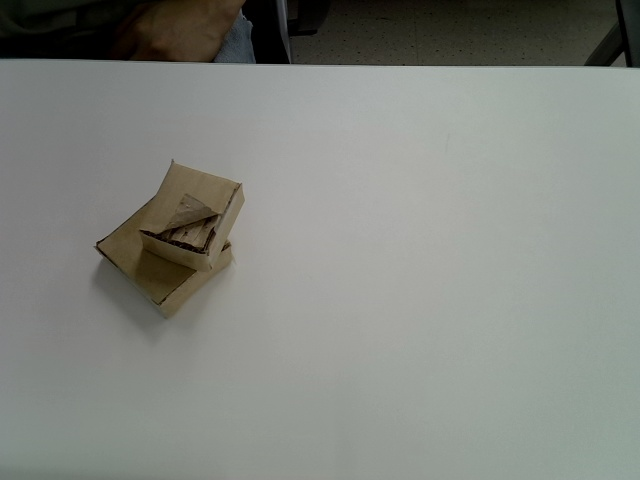defect: (138, 161, 245, 271)
normal: (93, 198, 235, 318)
